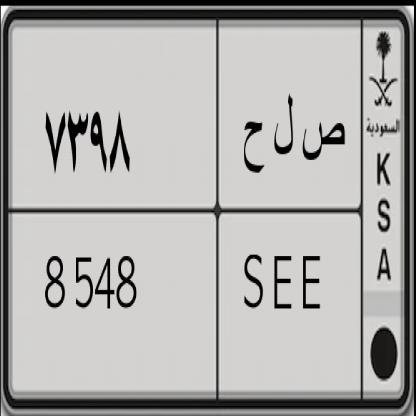english: (5, 191, 368, 416)
